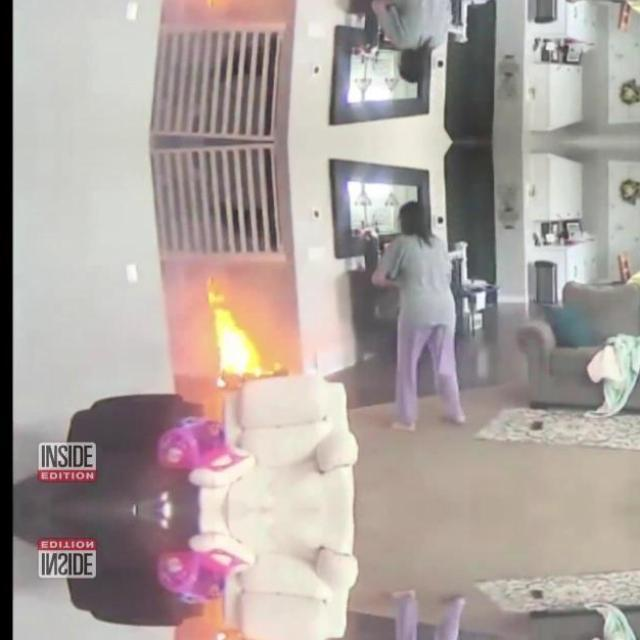smoke: (207, 274, 265, 378)
